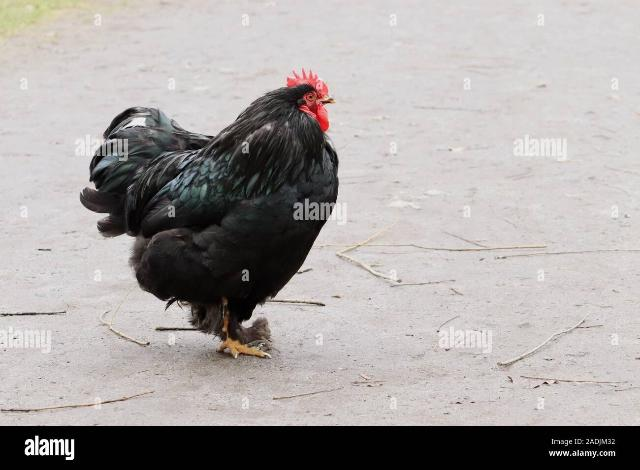Chicken: (80, 70, 340, 361)
